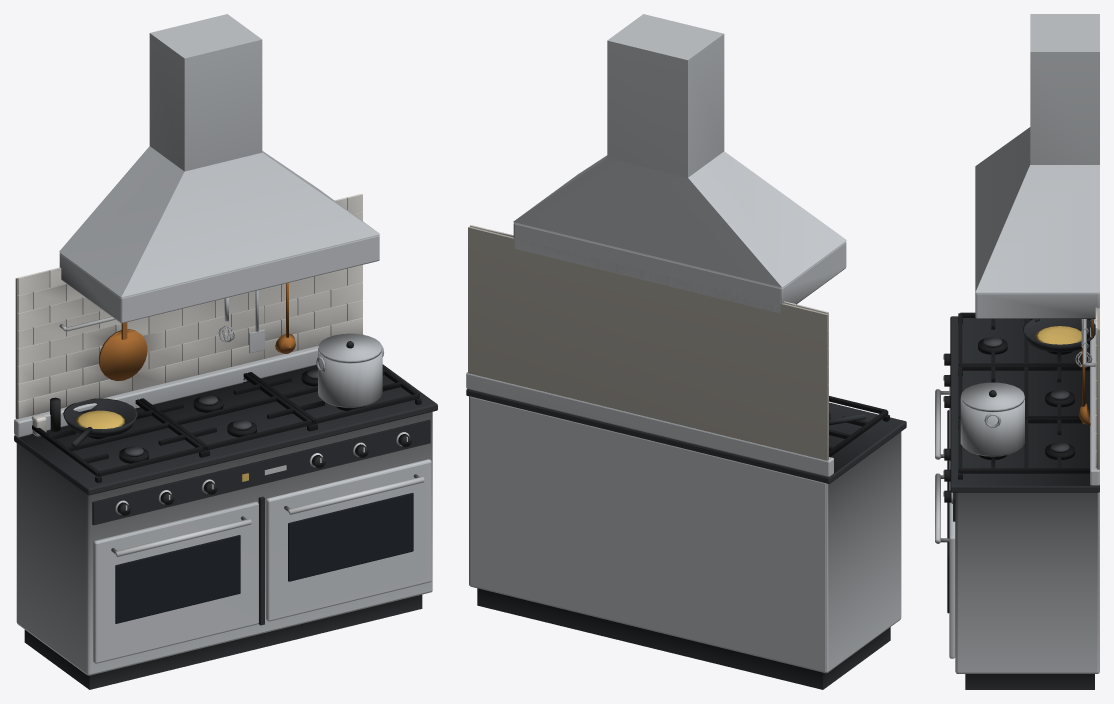
Rendered from chefStove.glb.
3 renders of one model, left to right at view 1: azimuth 30°, elevation 25°; view 2: azimuth 150°, elevation 25°; view 3: azimuth 270°, elevation 25°, orthographic. The views are drawn at different scales.
Visible parts, largest first — view 1: body, oven_door; view 2: body; view 3: body, oven_door.
Boxes of the visible parts, x1=… form: body: x1=14, y1=14, x2=437, y2=689; oven_door: x1=266, y1=459, x2=431, y2=621; body: x1=466, y1=14, x2=906, y2=689; body: x1=935, y1=14, x2=1099, y2=689; oven_door: x1=935, y1=460, x2=955, y2=658.
Size of the model in its own units: 1.62 by 2.55 by 0.662.
